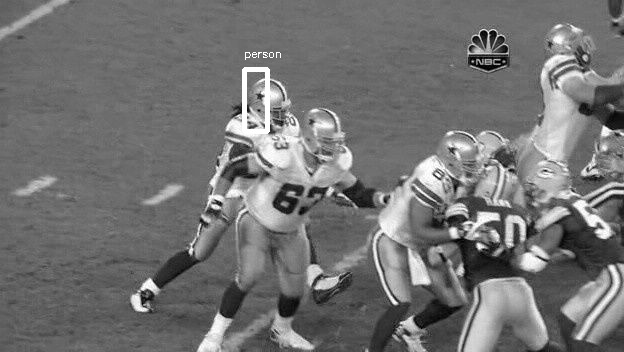person: (255, 79, 290, 124), (254, 79, 289, 124), (256, 79, 291, 124), (255, 78, 290, 123), (255, 80, 290, 125)
target_negative: (195, 230, 522, 314), (509, 108, 559, 352), (29, 226, 327, 249), (101, 346, 575, 351), (381, 214, 391, 309), (585, 305, 589, 331)
